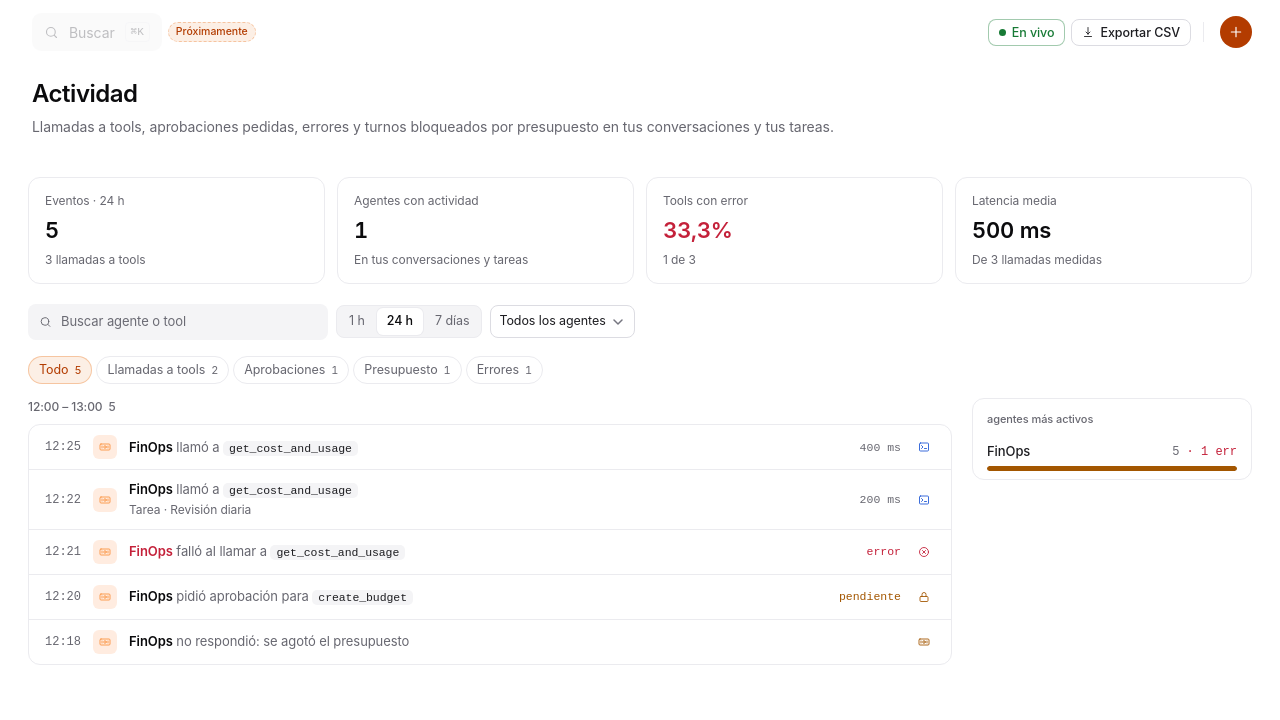
Test case: ActivityPage › asks the API again for another period
Expected: the text "Tarea · Revisión diaria" is shown, [129,502,251,517]
Click the button "7 días". click: (452, 322)
box: [425,308,479,335]
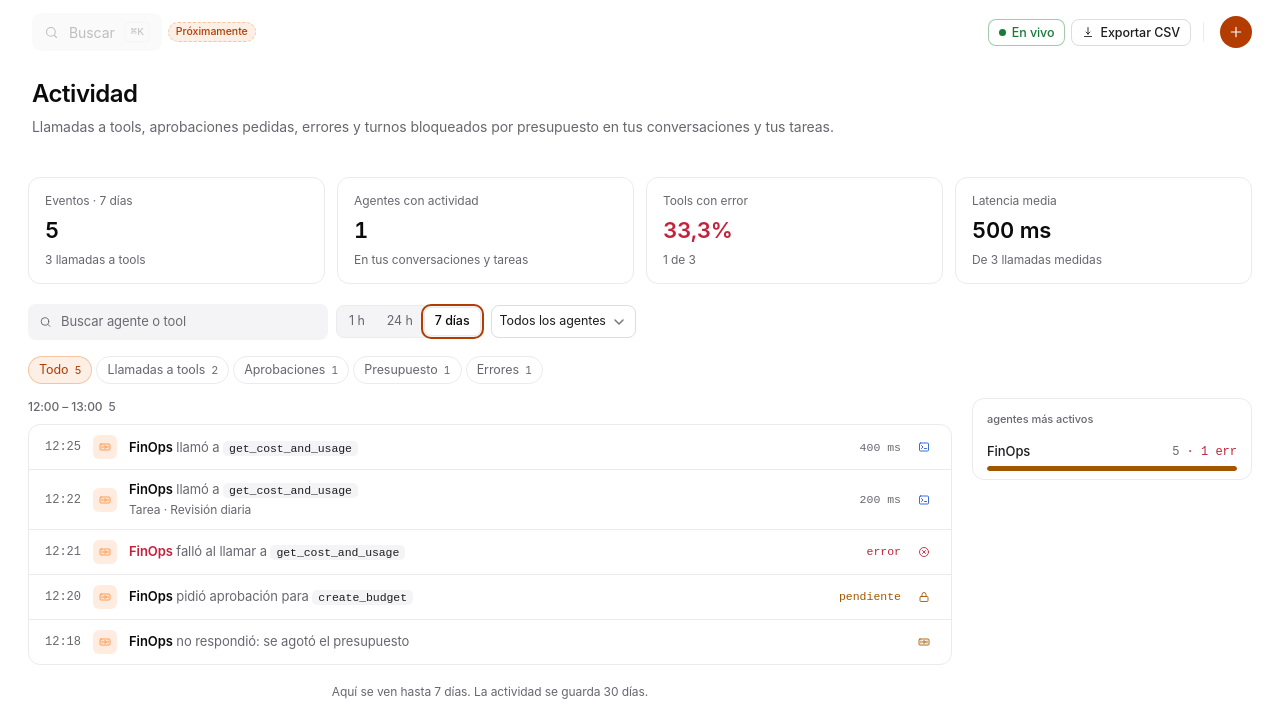
Now the text "Aquí se ven hasta 7 días. La actividad se guarda 30 días." is shown, box [332,684,648,699]
